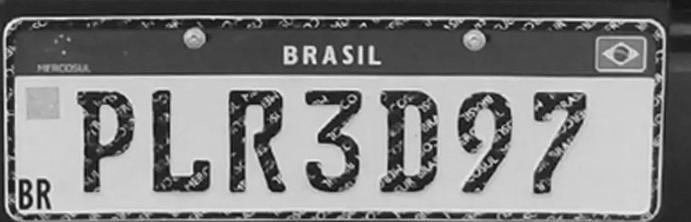placa_mercosul: (2, 0, 668, 220)
